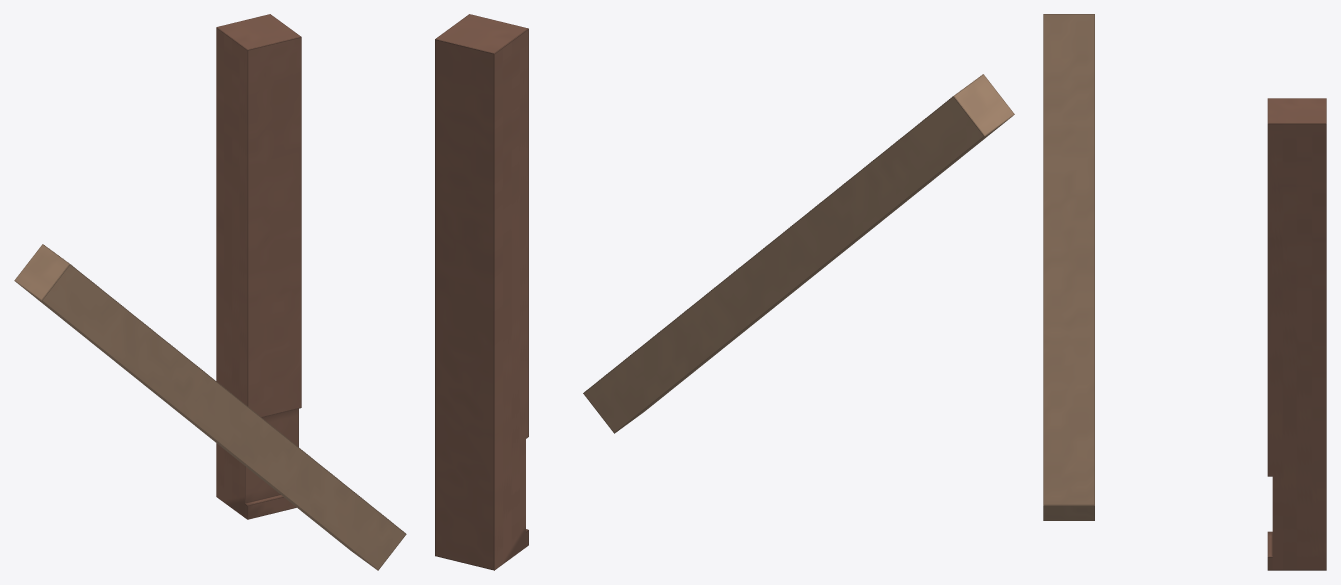
Rendered from brace-into-post.glb.
The picture shows the model from 3 angles, left to right: view 1: azimuth 30°, elevation 25°; view 2: azimuth 150°, elevation 25°; view 3: azimuth 270°, elevation 25°; orthographic projection. The views are drawn at different scales.
Parts seen in each view (by area): view 1: part-a, part-b; view 2: part-a, part-b; view 3: part-a, part-b.
Boxes of the visible parts, left/top/right/bottom form: part-a: left=216, top=14, right=301, bottom=519; part-b: left=14, top=244, right=406, bottom=570; part-a: left=435, top=14, right=528, bottom=570; part-b: left=583, top=74, right=1014, bottom=433; part-a: left=1267, top=98, right=1326, bottom=570; part-b: left=1043, top=14, right=1094, bottom=520.
Size of the model in its own units: 0.8425 by 1 by 0.5758.
